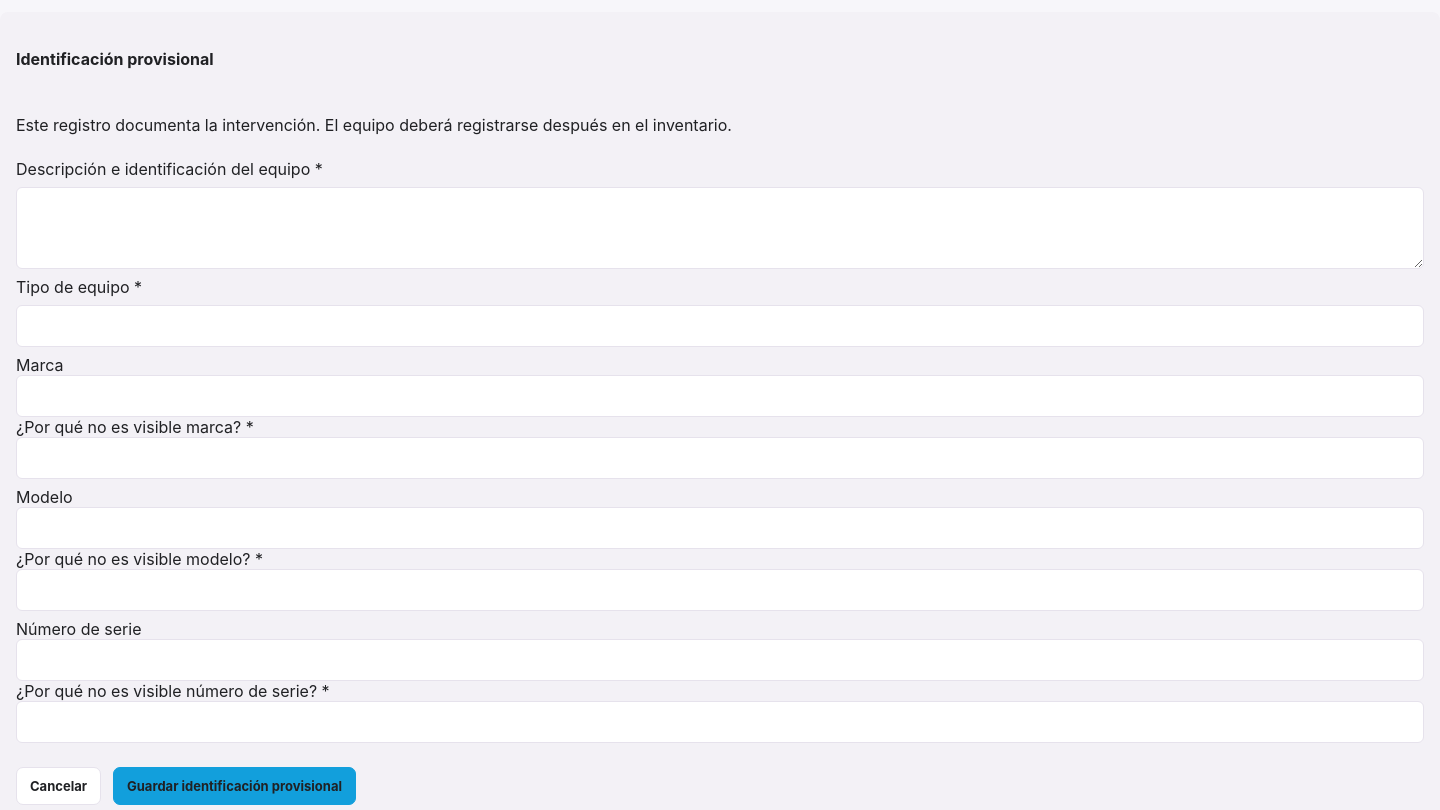
Test case: Identificación provisional del equipo › permite cancelar e informa errores sin cerrar el formulario
Type "Unidad exterior ubicada en el techo" into the text box labelled "Descripción e identificación del equipo *" at (720, 228), box [16,186,1424,268]
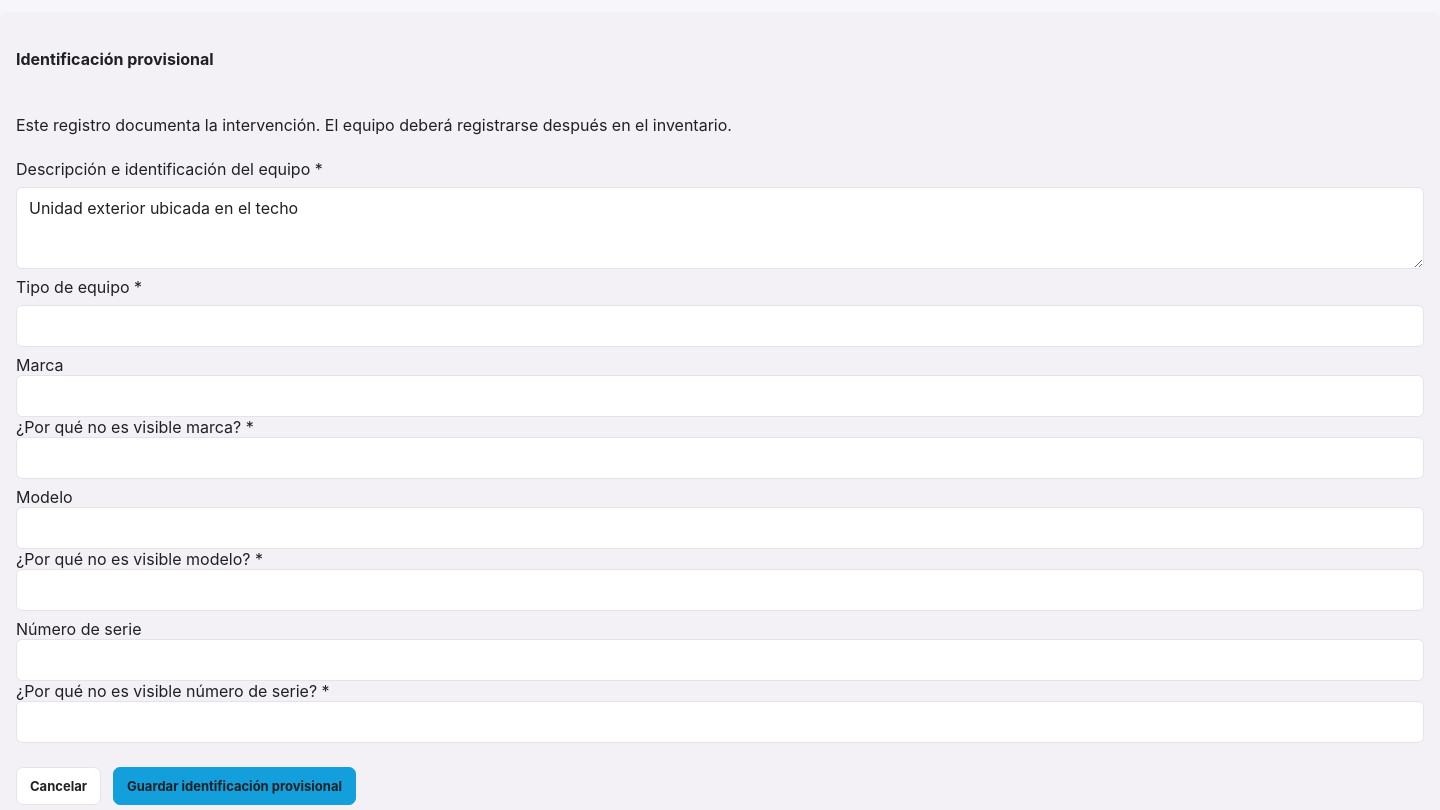
Type "Aire acondicionado" into the field labelled "Tipo de equipo *" at (720, 326), box [16,304,1424,346]
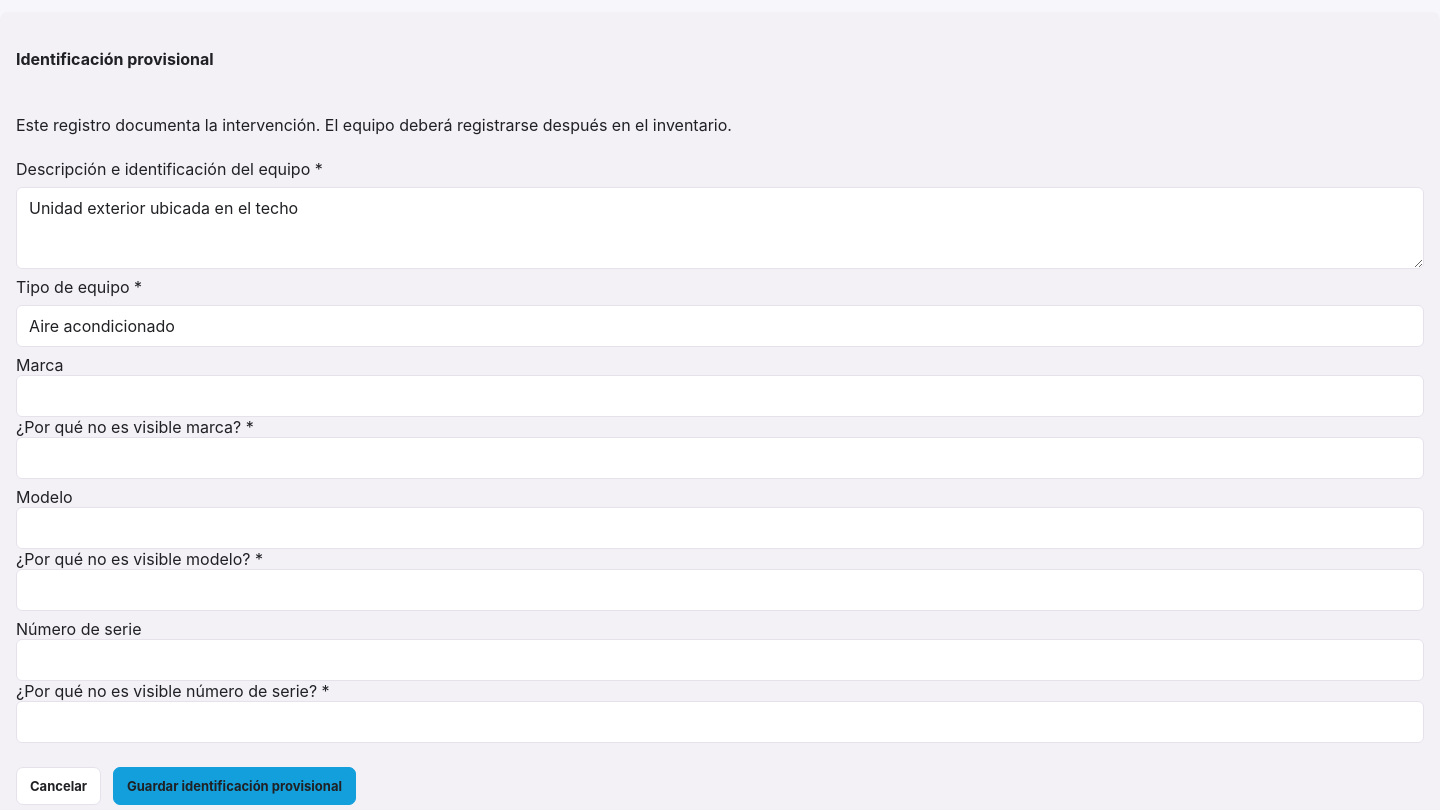
Click the button "Cancelar" at (58, 786), box [16,766,101,804]
(page scrolled)
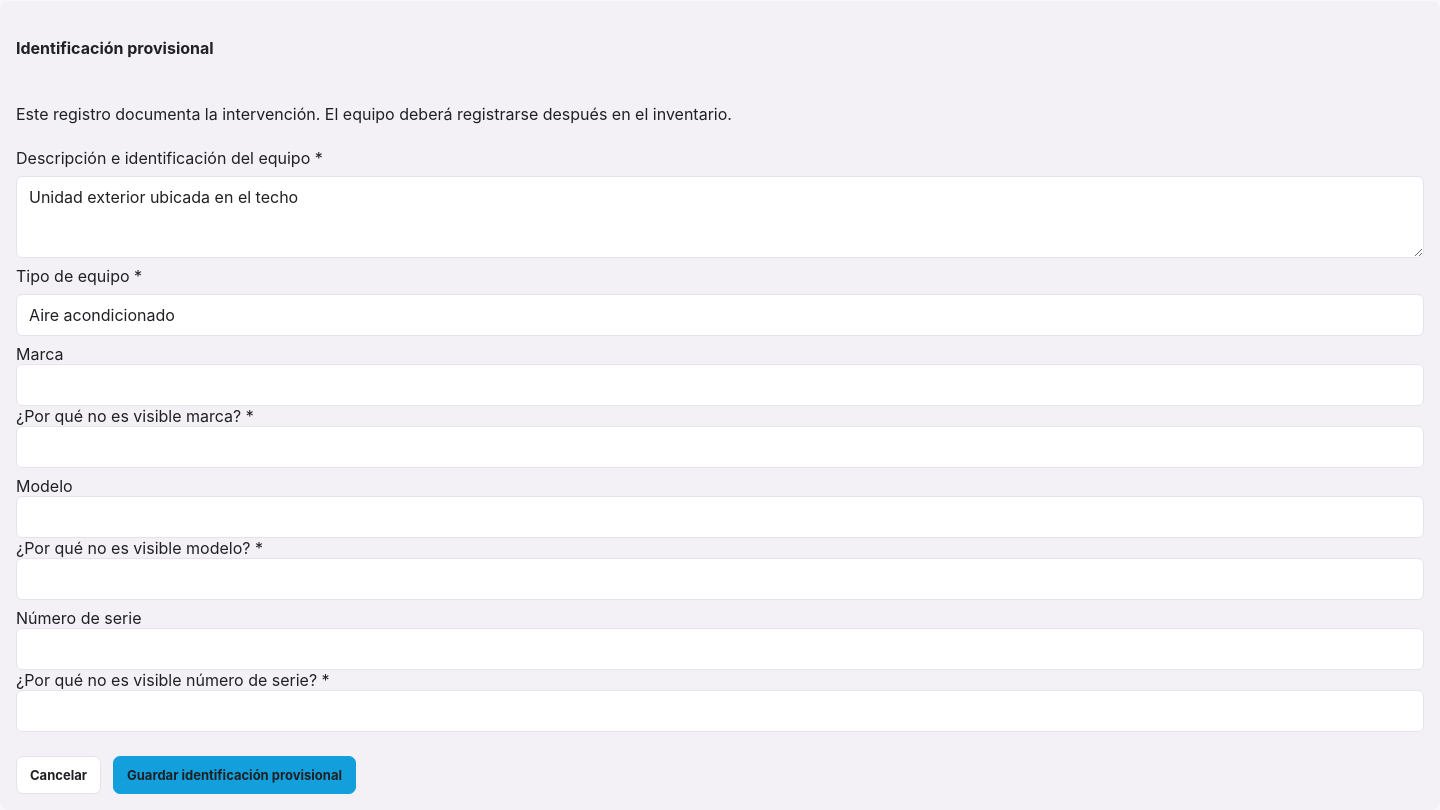
Submit the form named "Guardar identificación provisional"
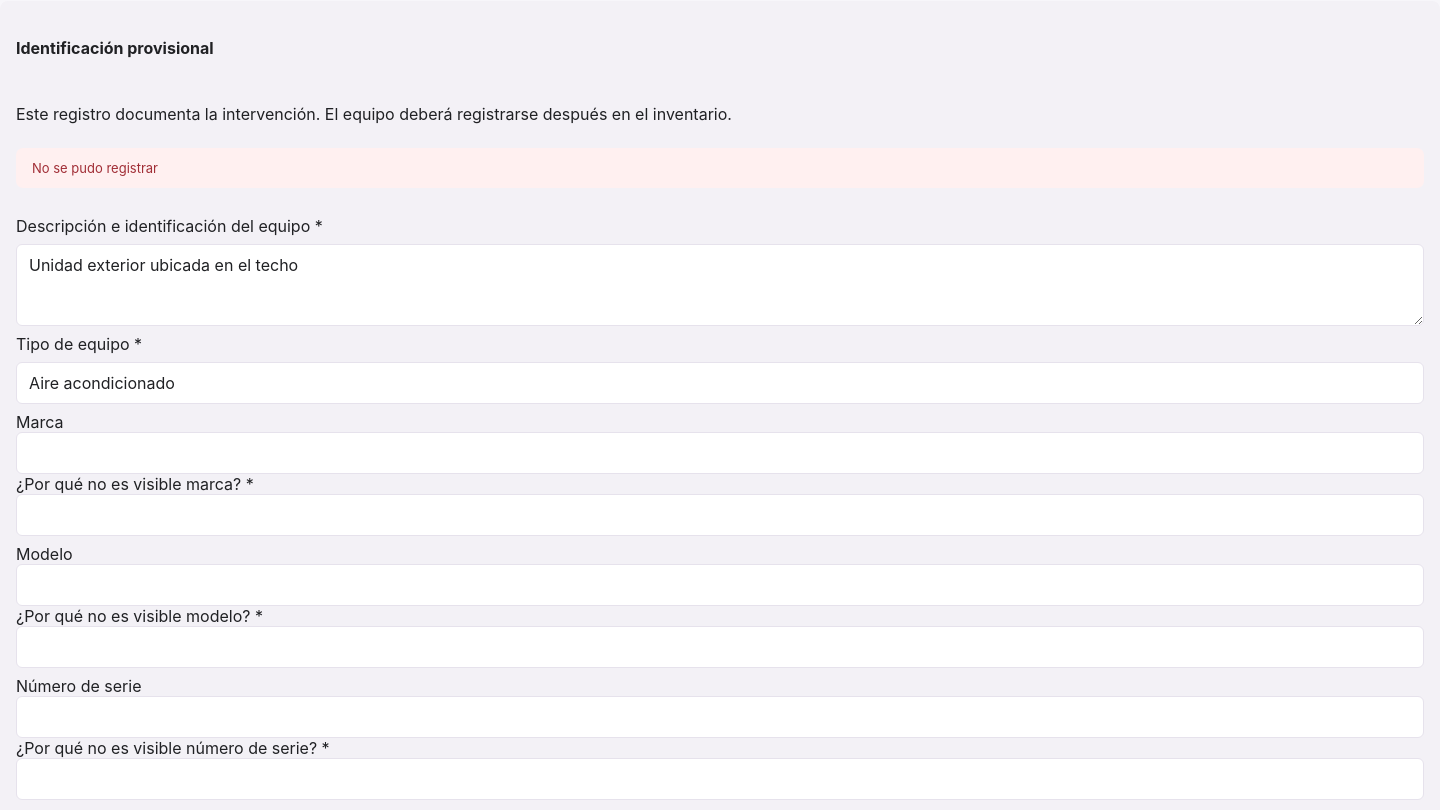
Check: the message reads "No se pudo registrar", box [32,160,158,176]
